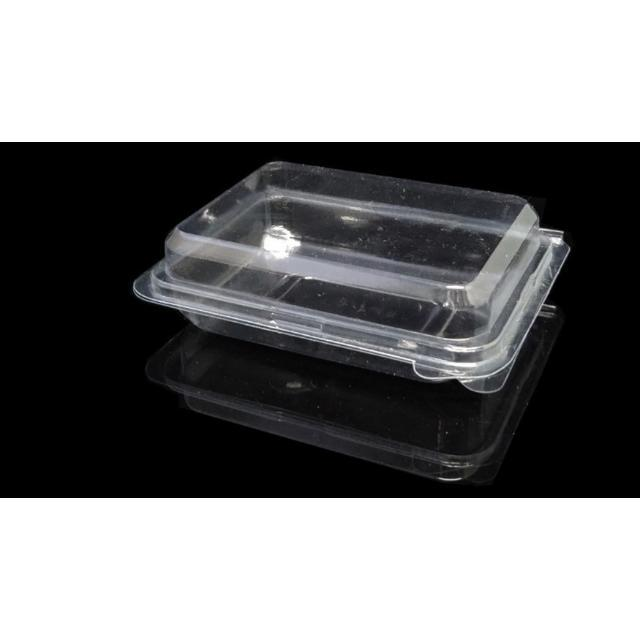Recipiente plastico: (134, 161, 569, 392)
